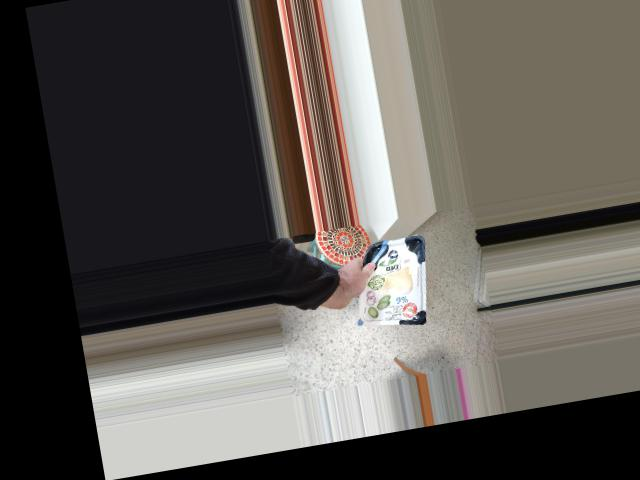cheese: (334, 253, 415, 334)
